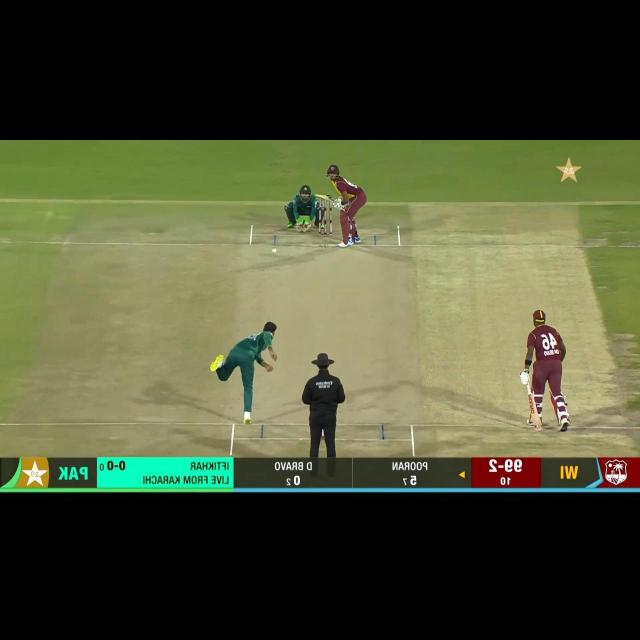bat: (526, 395, 544, 432), (314, 193, 335, 203)
toe: (532, 420, 541, 430), (313, 193, 321, 199)
